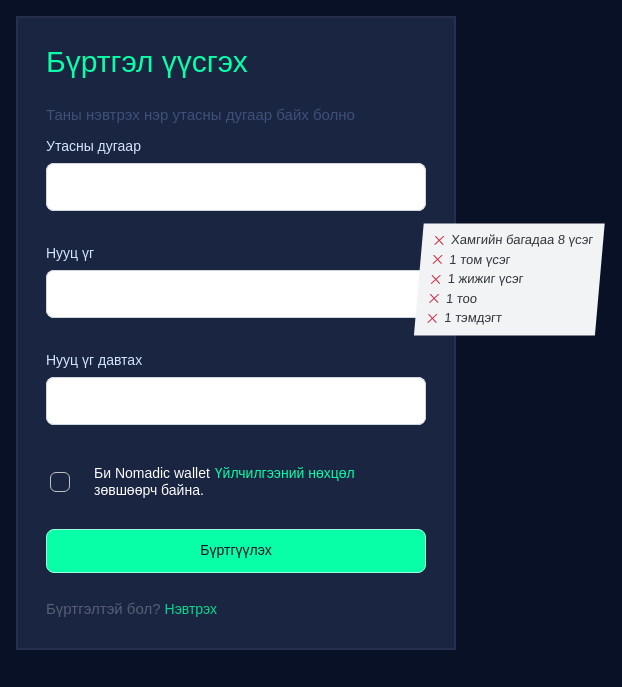
it: user register user field validation › username incorrect
The image size is (622, 687).
Type "9633" into the field with test id "userId". click: (236, 187)
box: [46,163,426,211]
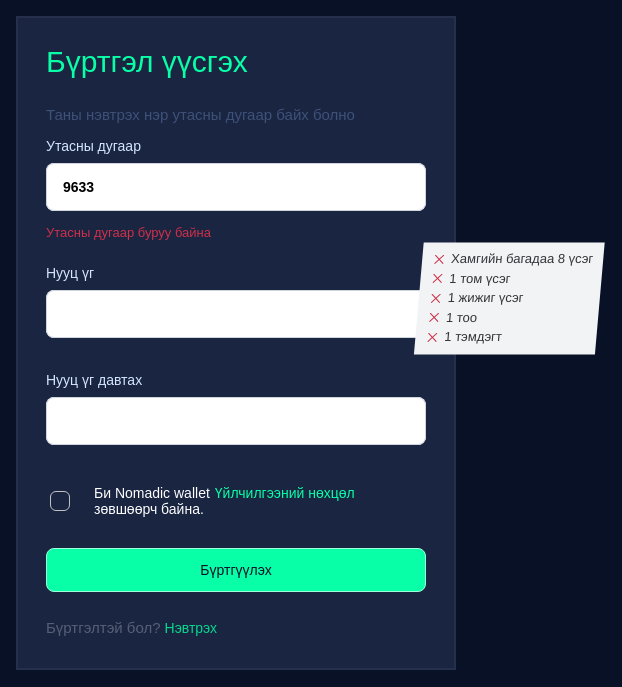
expect the text with test id "user-error-sms" reads "Утасны дугаар буруу байна": met, box [46,225,211,240]
